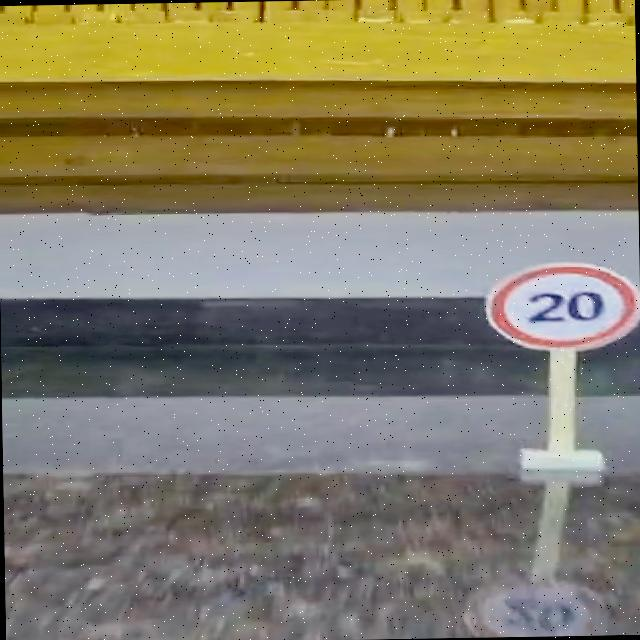Speed20: (467, 253, 640, 359)
